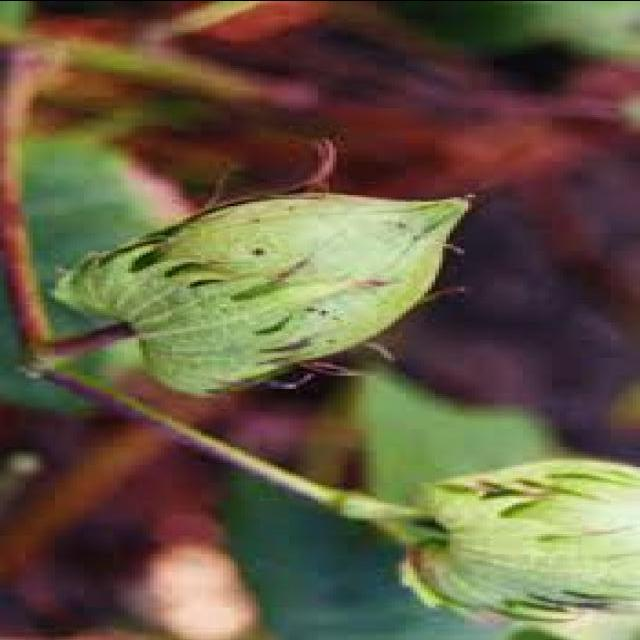Early Boll: (55, 184, 478, 392), (381, 461, 639, 625)
